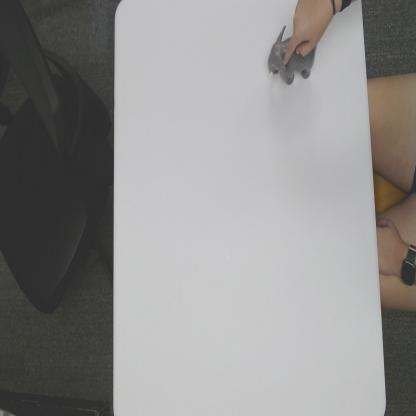Elephant: (266, 21, 318, 84)
Hand: (283, 0, 340, 66)
